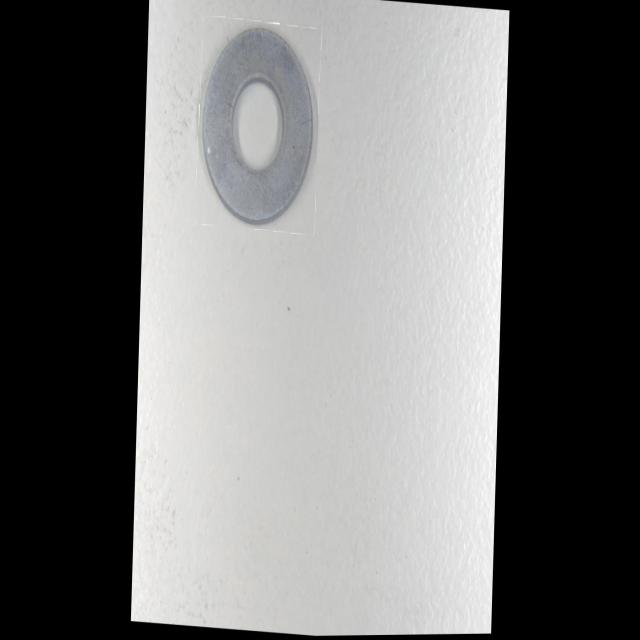washer: (199, 21, 317, 228)
